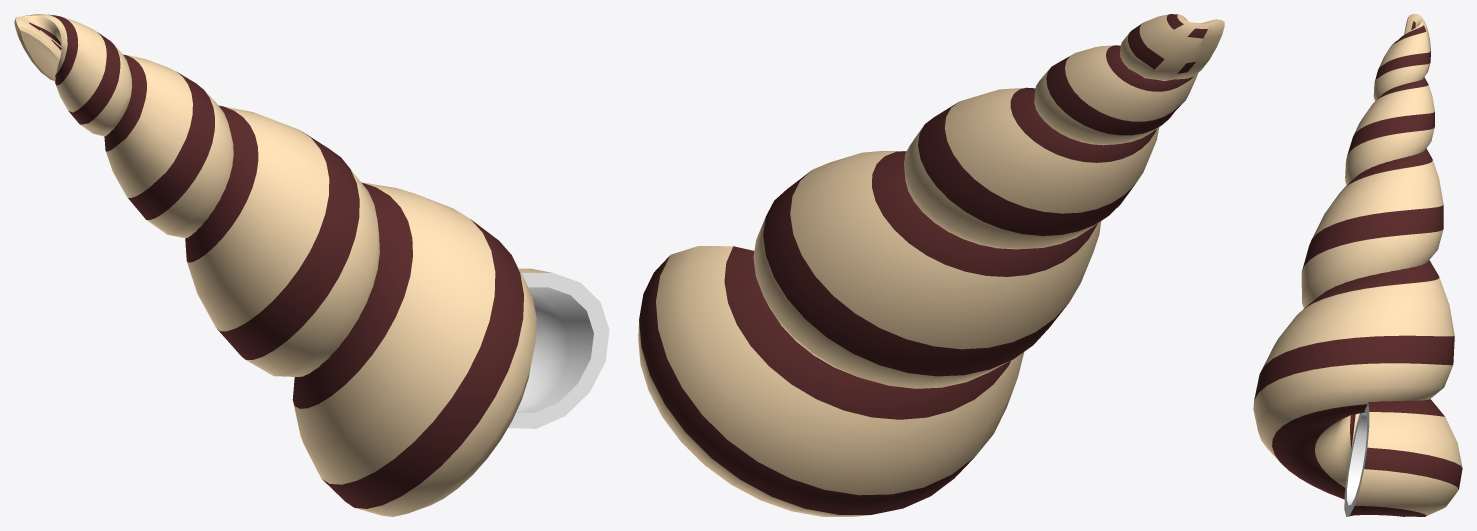
Rendered from Spiral_Shell.gltf.
3 renders of one model, left to right at view 1: azimuth 30°, elevation 25°; view 2: azimuth 150°, elevation 25°; view 3: azimuth 270°, elevation 25°, orthographic. The views are drawn at different scales.
Parts seen in each view (by area): view 1: Circle.1986; view 2: Circle.1986; view 3: Circle.1986.
Boxes of the visible parts, x1,y1,x2,y2 form: Circle.1986: [14, 14, 609, 516]; Circle.1986: [638, 14, 1224, 516]; Circle.1986: [1253, 14, 1462, 516].
Size of the model in its own units: 2.18 by 2.03 by 1.02.
Materials: 1 (1 with a texture image).
